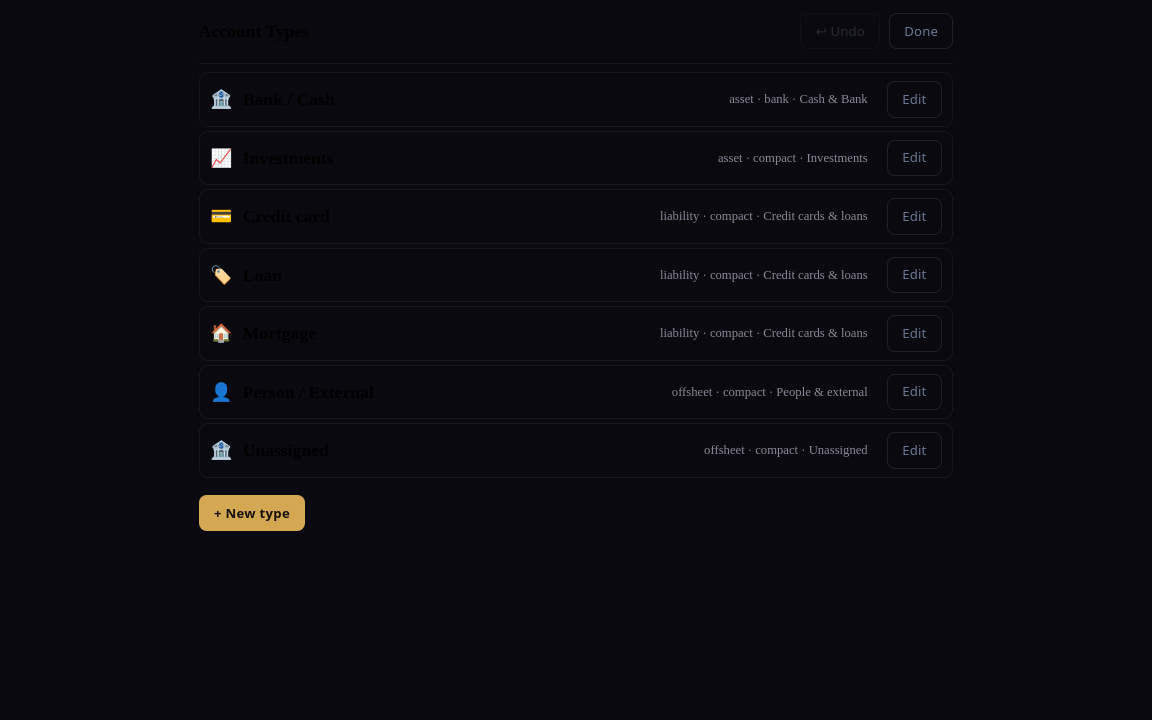
Test: AccountTypesScreen › lists every type and opens the editor for + New type
Click the button "+ New type".
click(252, 513)  # box [199,495,305,532]
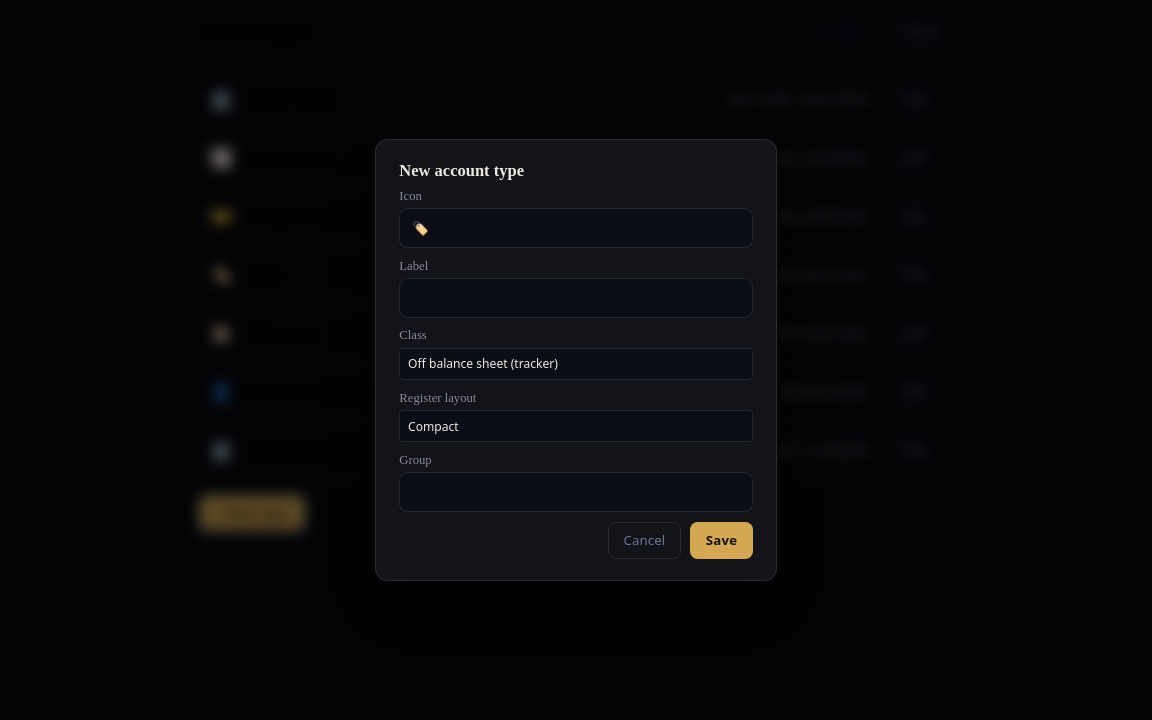
Check: the heading "New account type" is shown, box [399,161,524,180]
